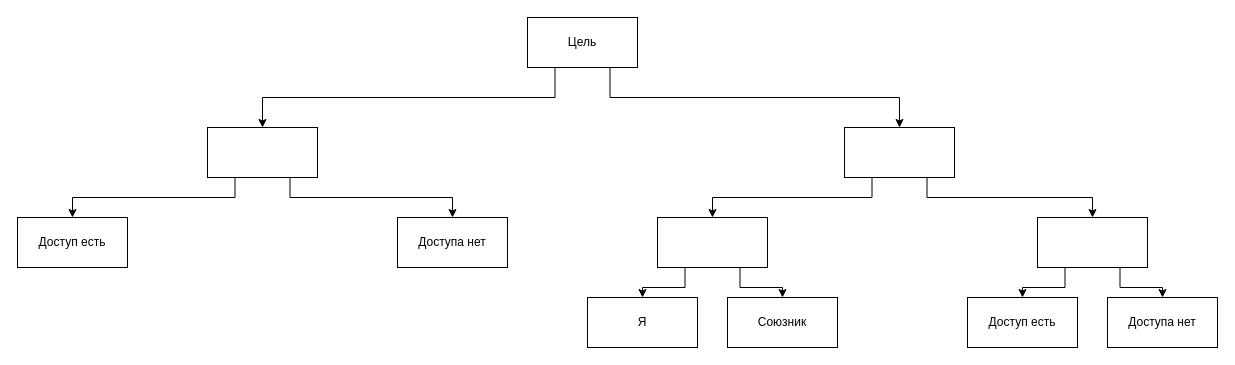
Some shapes in this 1235 by 365 pixel diagram are drawn without their labels. Here are the shapes that lost their labels. From the top down, the centre of each, then its label:
the point at 262,152: Свободна
the point at 899,152: Занята
the point at 712,242: Свои
the point at 1092,242: Чужие
